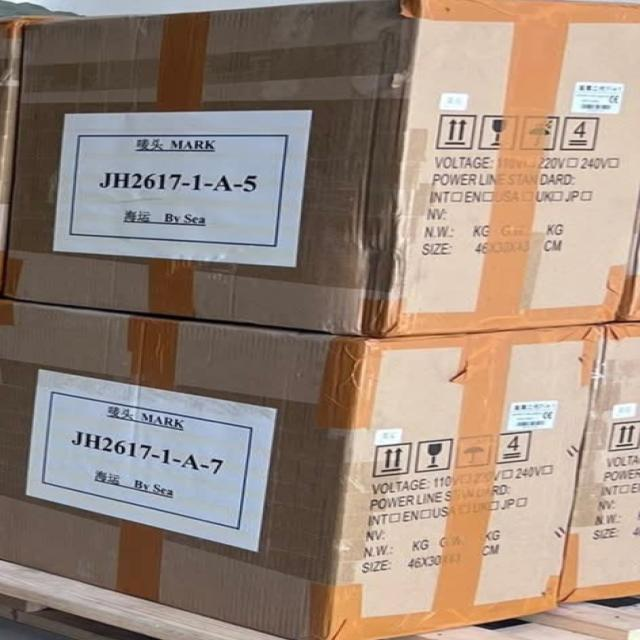carton_box: (2, 0, 640, 334), (2, 280, 581, 640)
export_mark_label: (42, 113, 314, 270), (27, 370, 264, 538)
fragile_label: (415, 432, 456, 473), (480, 113, 520, 150)
keep_dry_label: (523, 110, 563, 151), (458, 432, 500, 470)
this_side_up_label: (432, 114, 478, 154), (366, 438, 410, 479)
